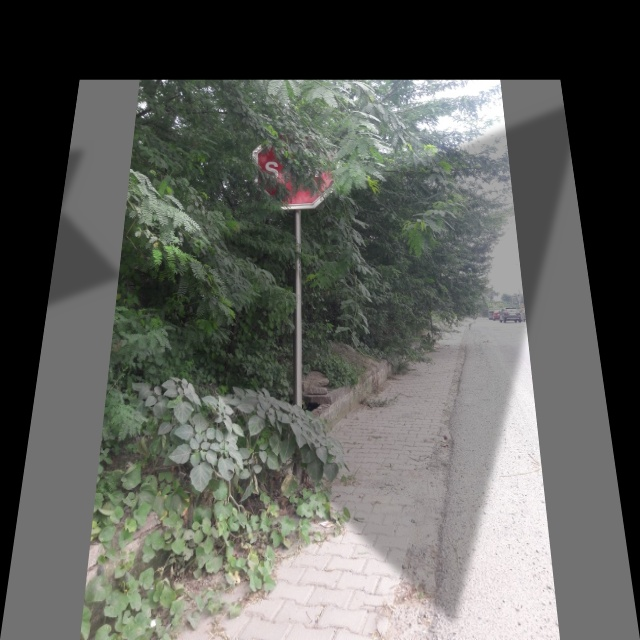Stop: (250, 135, 332, 209)
